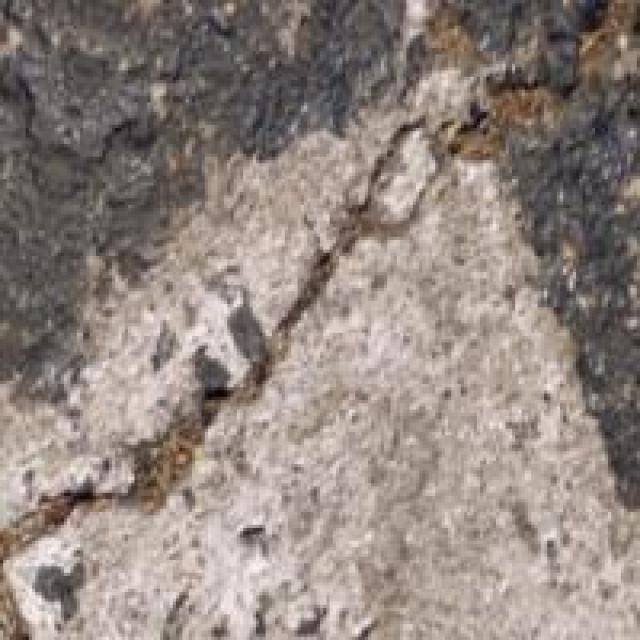Crack: (22, 150, 448, 560)
